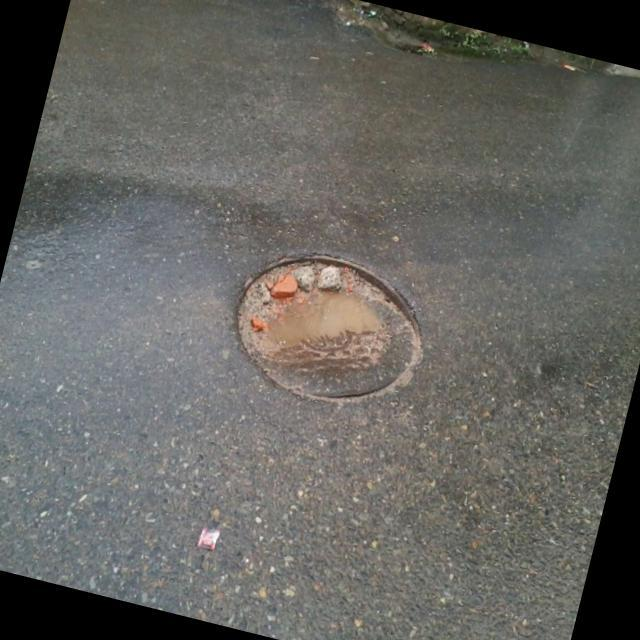Pothole: (249, 266, 392, 366)
